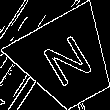N_SE: (36, 30, 98, 93)
